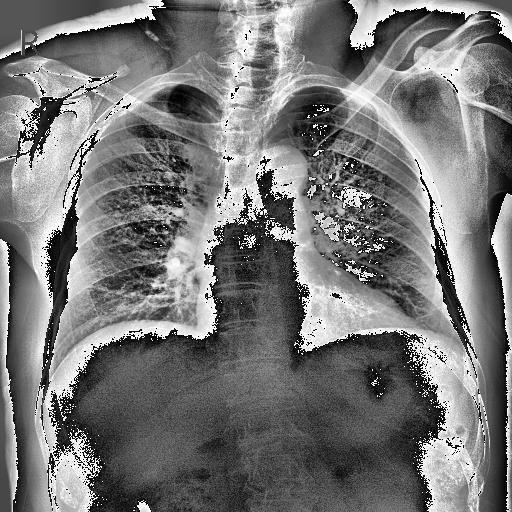0- Aortic enlargement: (255, 148, 307, 208), (248, 147, 308, 191), (258, 145, 308, 187)
11- Pleural thickening: (114, 76, 177, 122), (114, 80, 180, 120), (110, 82, 170, 121)
3- Cardiomegaly: (192, 289, 420, 356), (194, 288, 412, 338)
